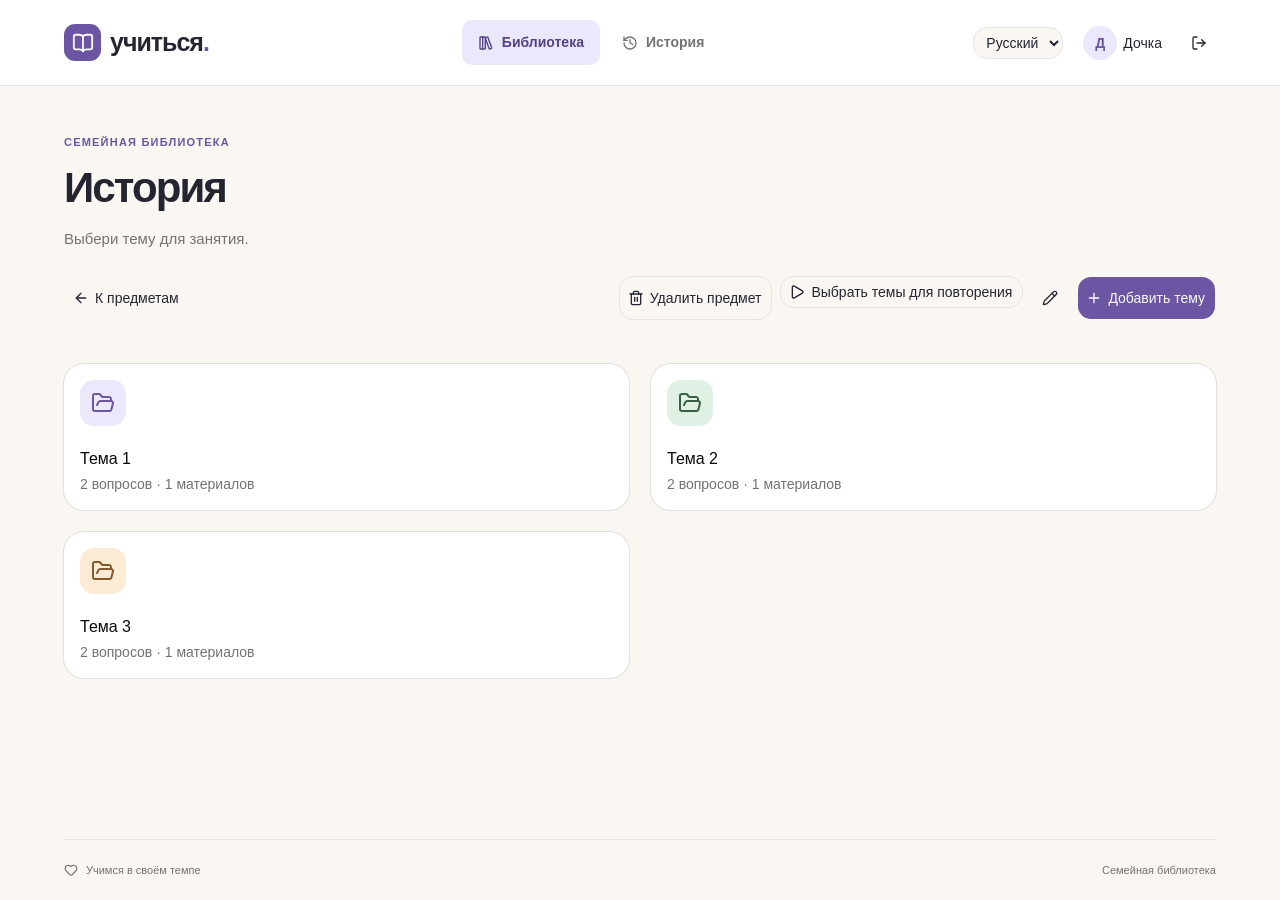
Test case: starts study with only explicitly selected topics and chosen format
The image size is (1280, 900).
Click the button "Выбрать темы для повторения": (902, 292) [780,276,1024,308]
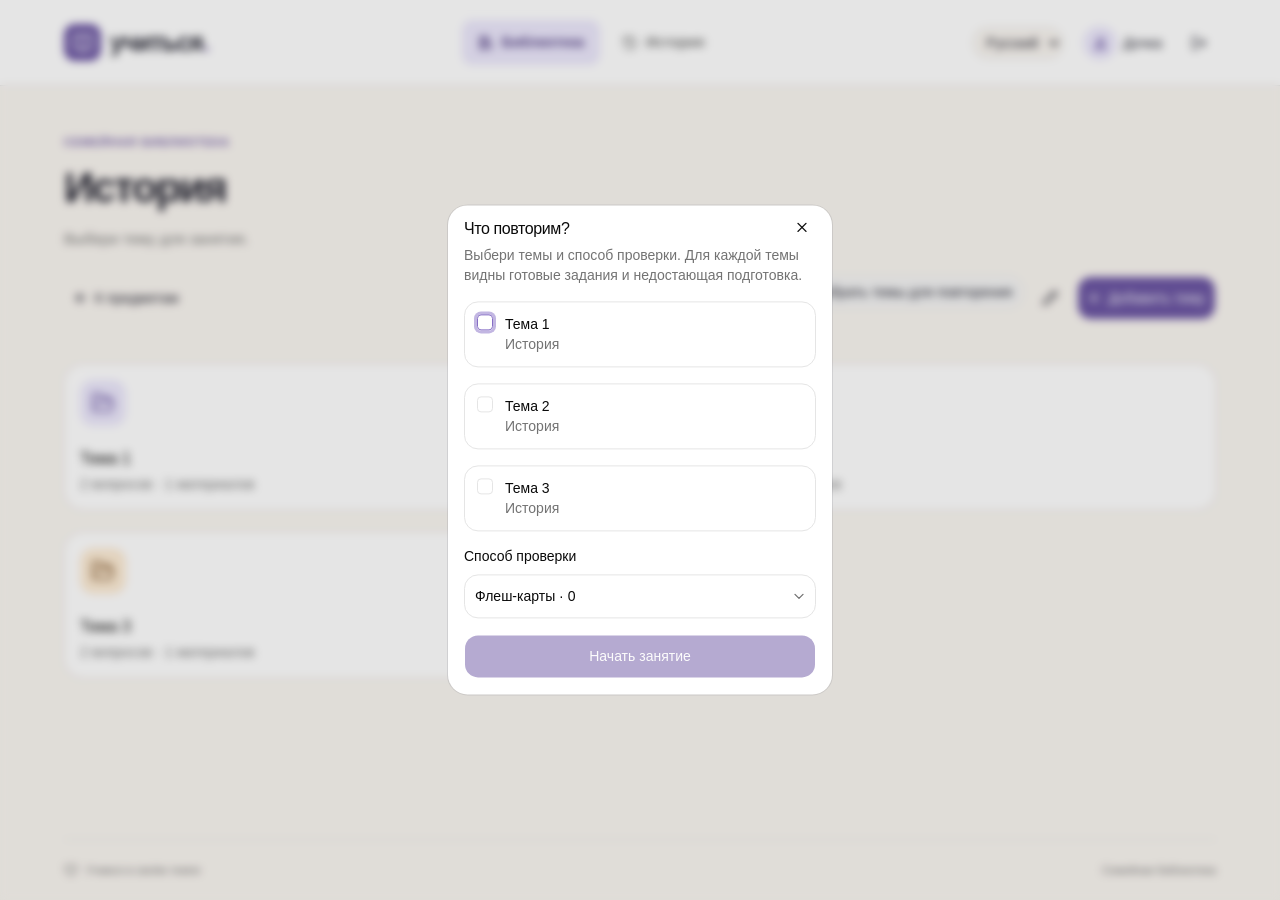
Expected: the button "Начать занятие" is disabled, [464,635,816,679]
Click the checkbox named "Тема 1": (485, 322) [477,314,493,330]
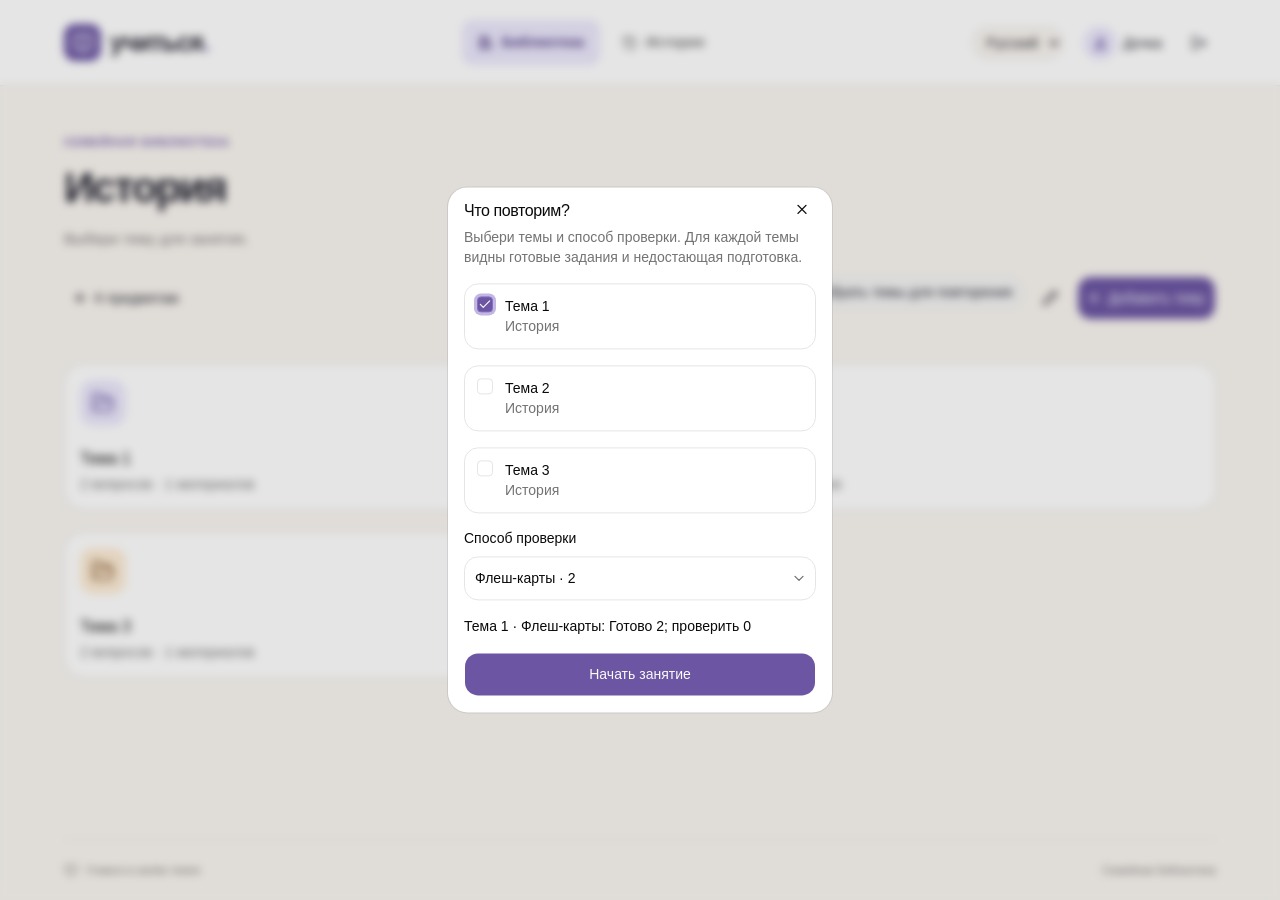
Click the checkbox named "Тема 3": (485, 468) [477,460,493,476]
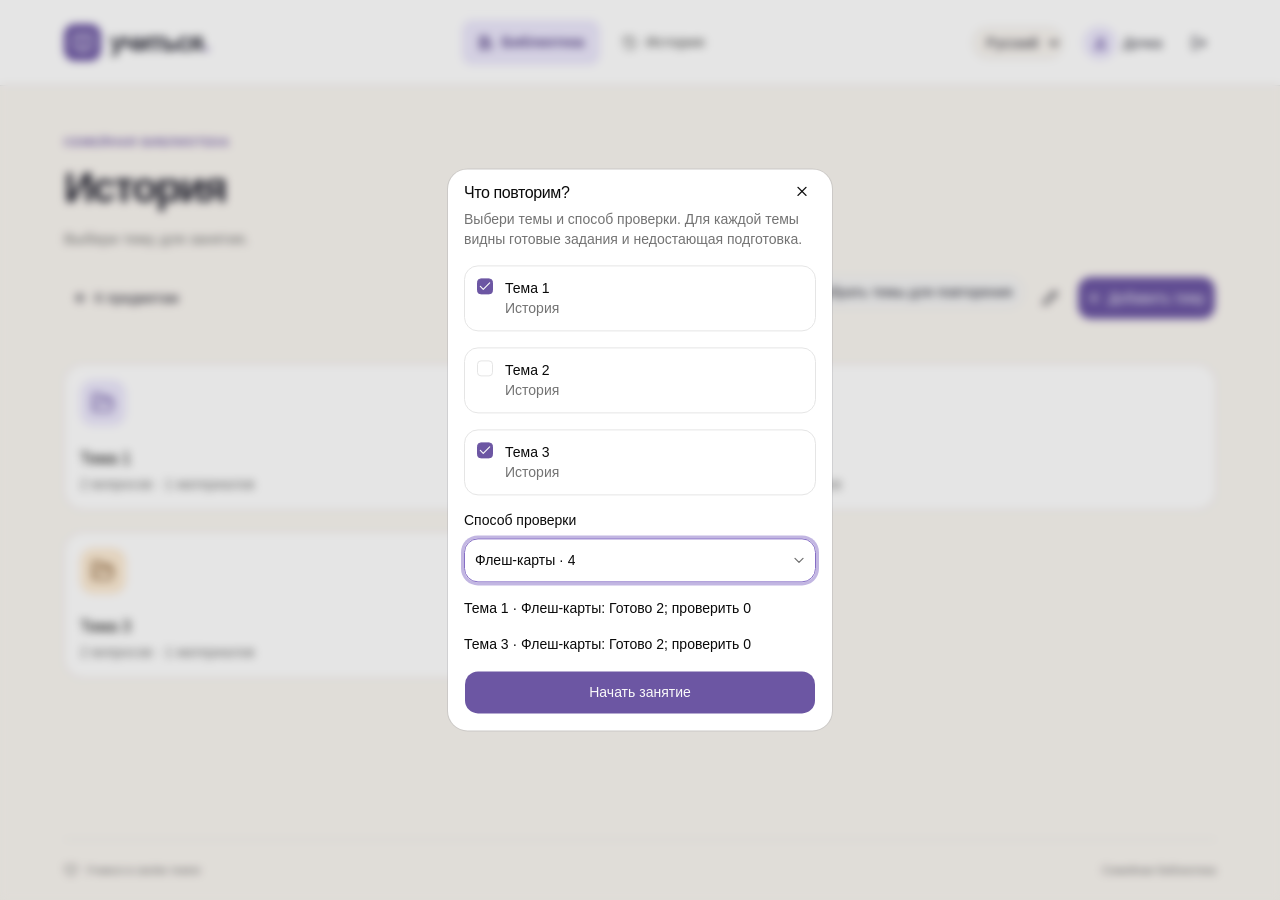
Press Enter
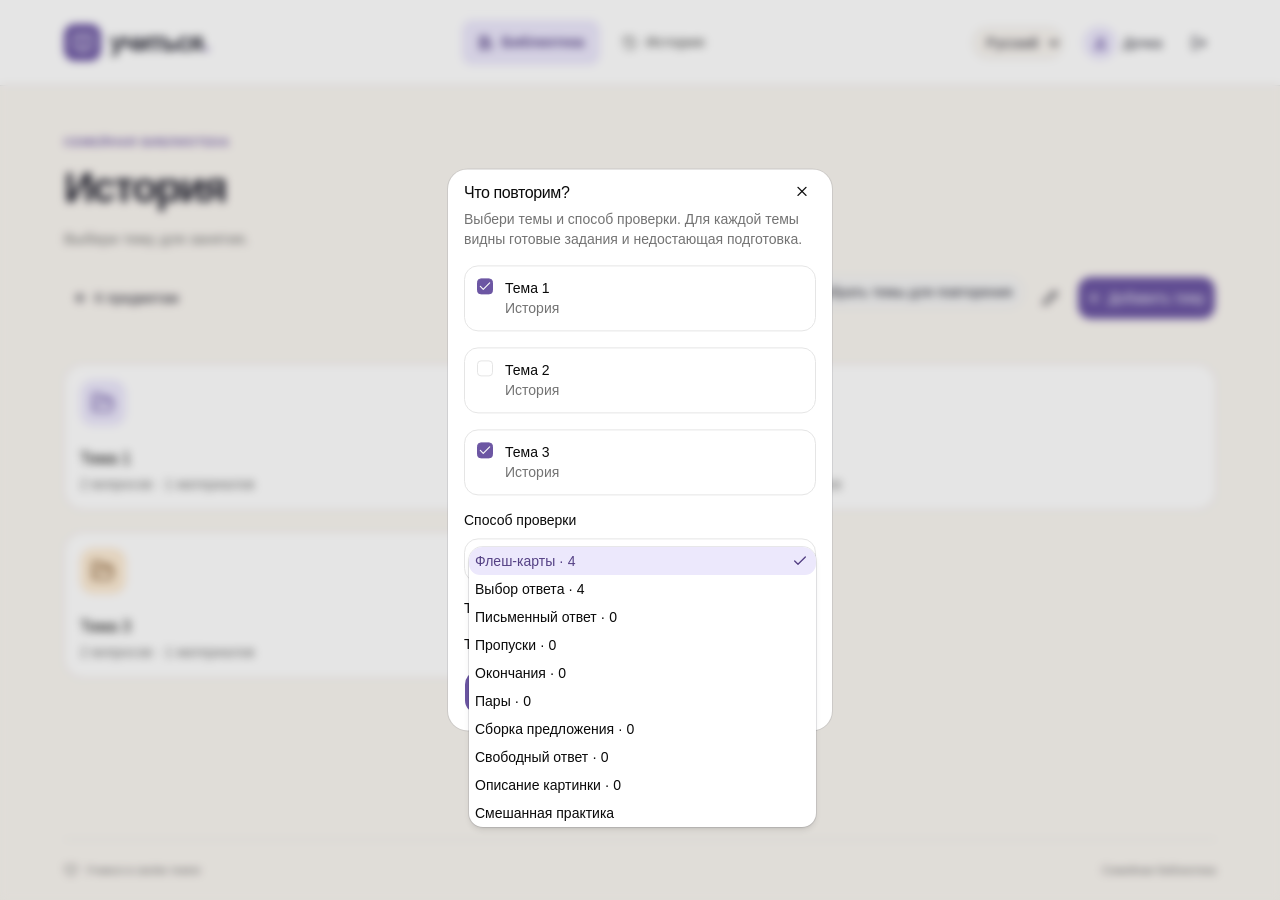
Click the option "Выбор ответа · 4": (530, 589) [475,581,585,597]
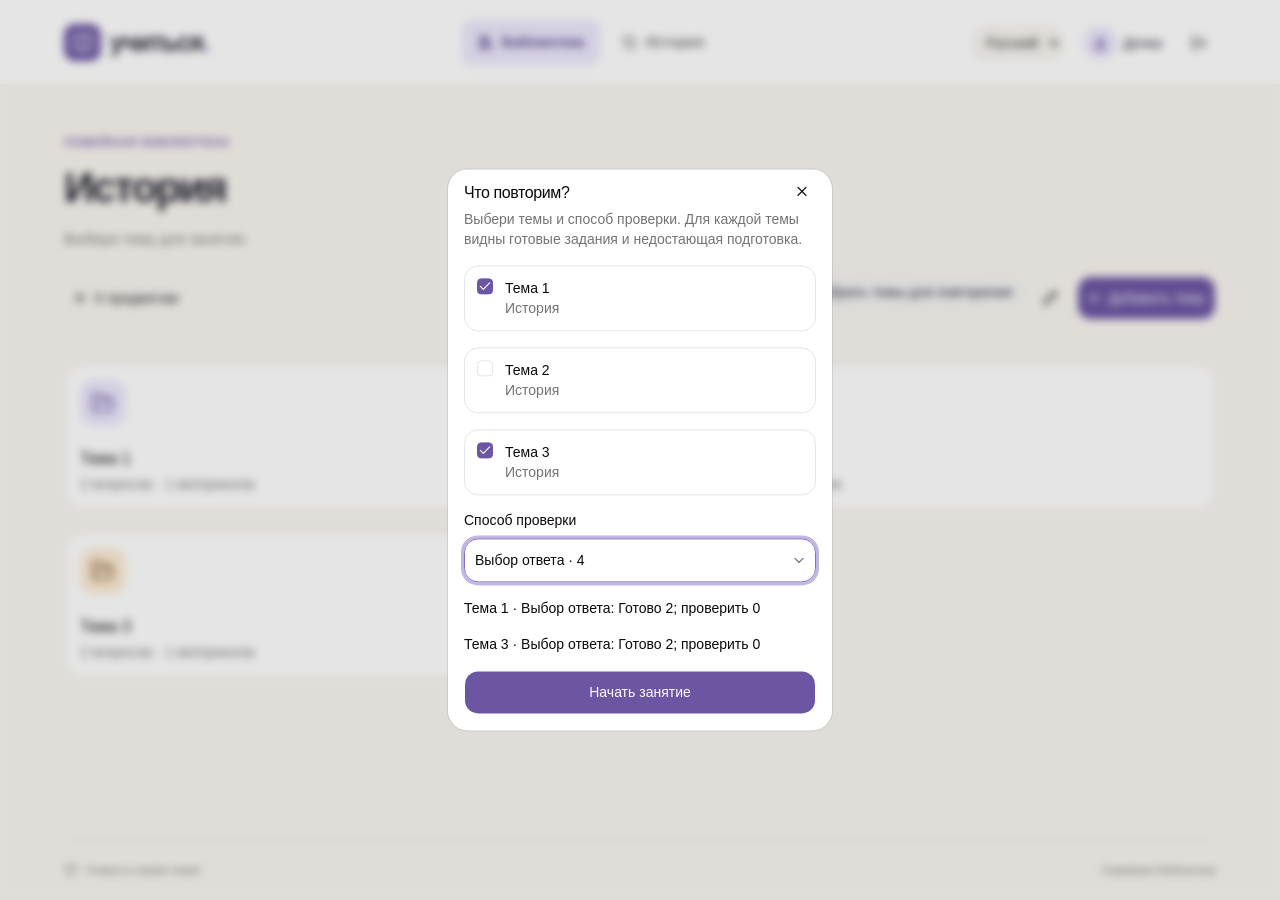
Click the button "Начать занятие": (640, 693) [464,671,816,715]
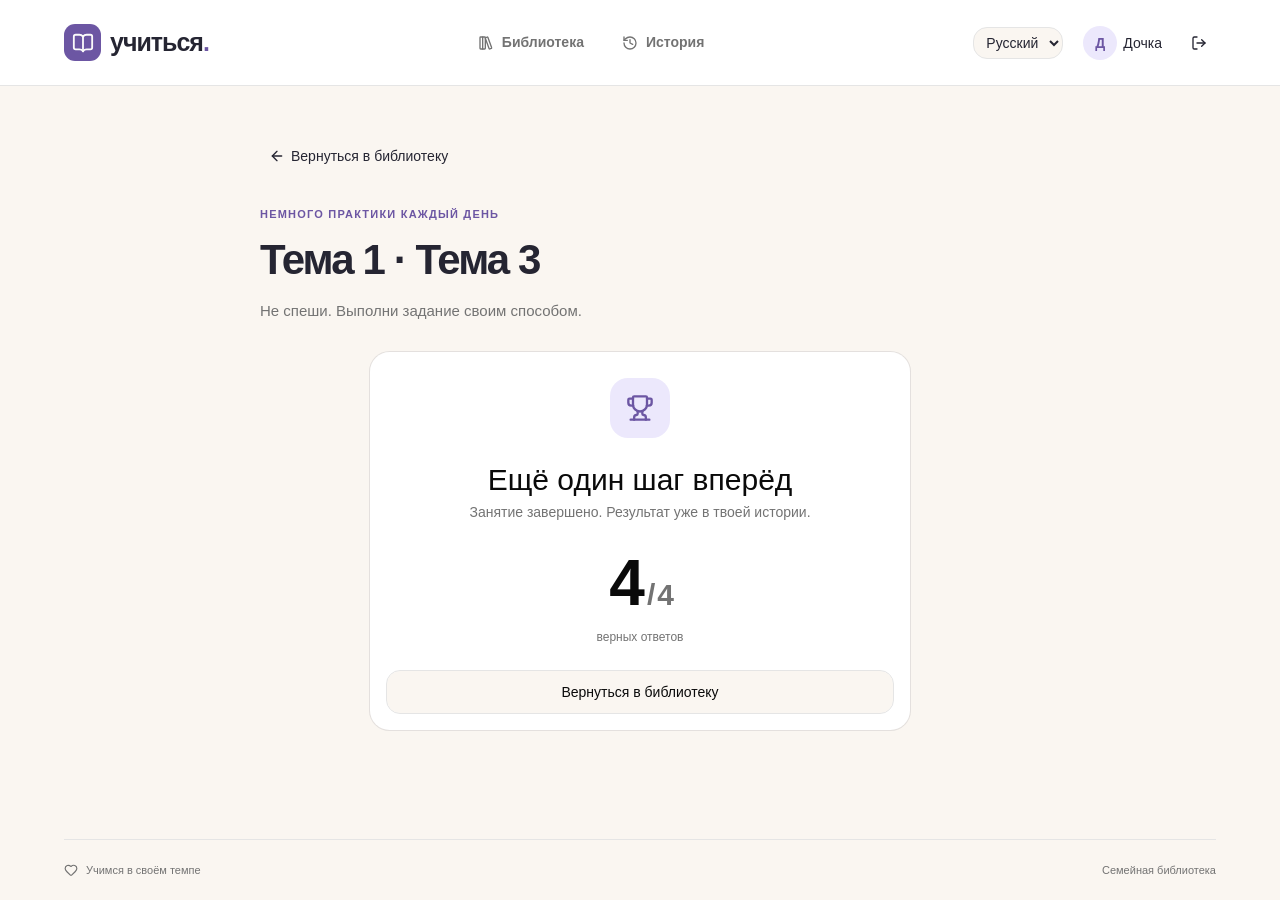
Expected: the text "Ещё один шаг вперёд" is shown, [488,462,792,496]
